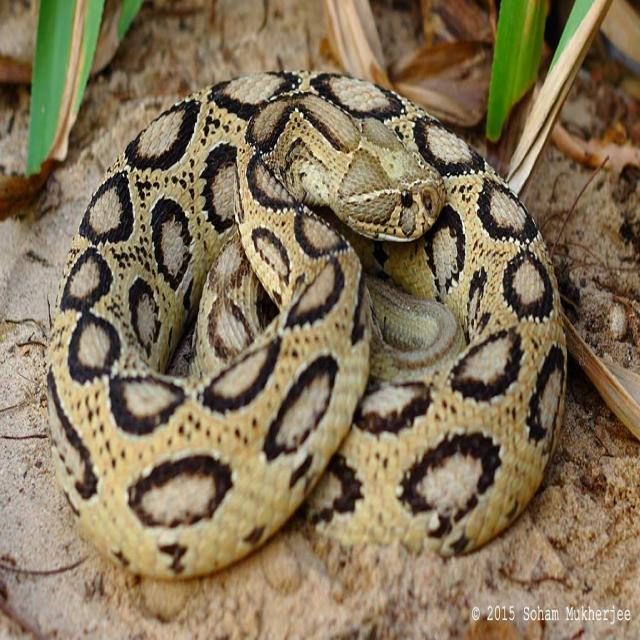Snake: (39, 54, 574, 588)
